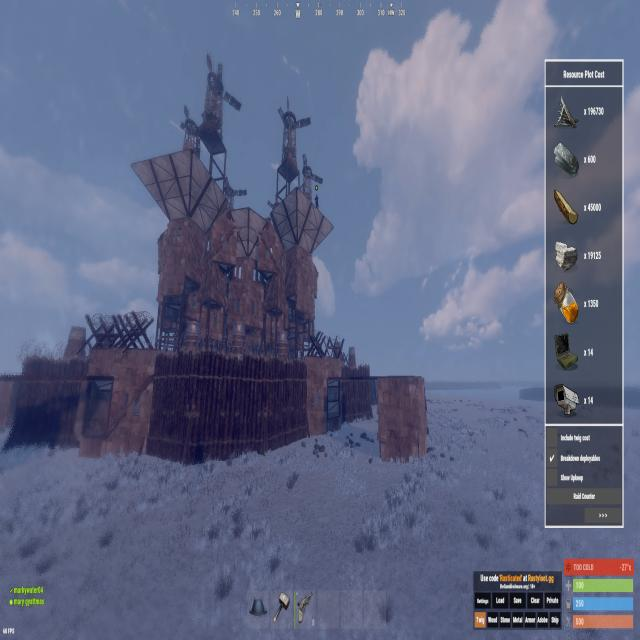Player: (314, 193, 319, 211)
